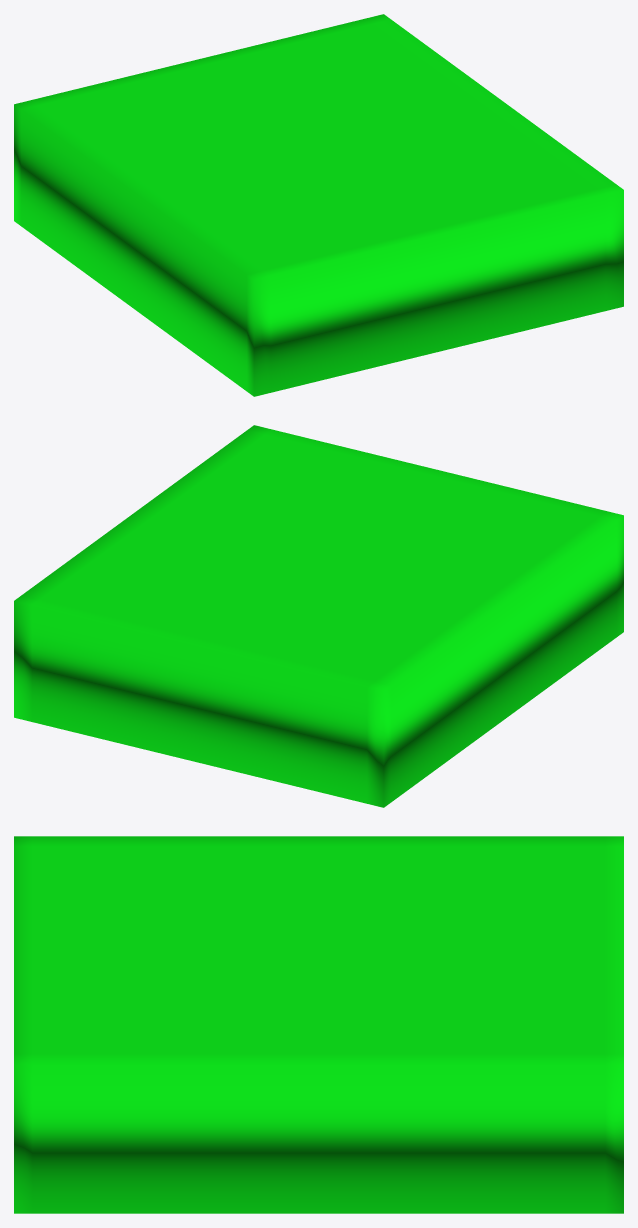
Rendered from tina2.fbx.
The picture shows the model from 3 angles, top to bottom: view 1: azimuth 30°, elevation 25°; view 2: azimuth 150°, elevation 25°; view 3: azimuth 270°, elevation 25°; orthographic projection. The views are drawn at different scales.
Visible parts, largest first — view 1: Cube.001; view 2: Cube.001; view 3: Cube.001.
Boxes of the visible parts, x1,y1,x2,y2 form: Cube.001: (14, 14, 623, 396); Cube.001: (14, 425, 623, 807); Cube.001: (14, 836, 623, 1213).
Size of the model in its own units: 133 by 40 by 149.
